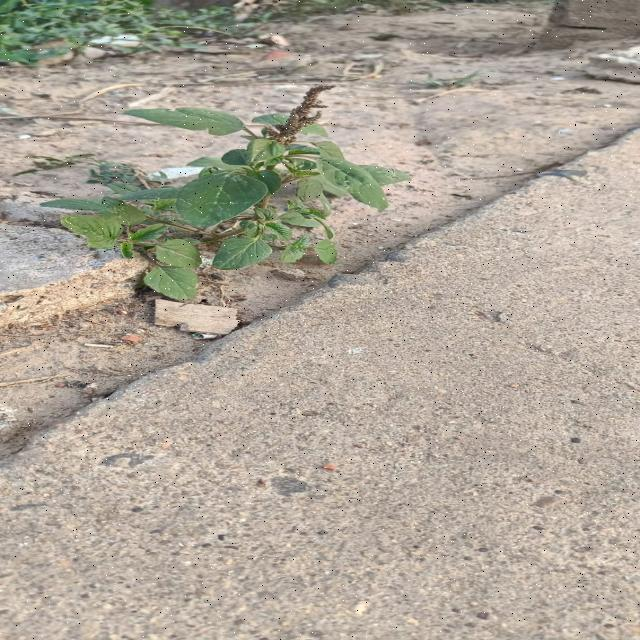plant: (45, 85, 408, 300)
